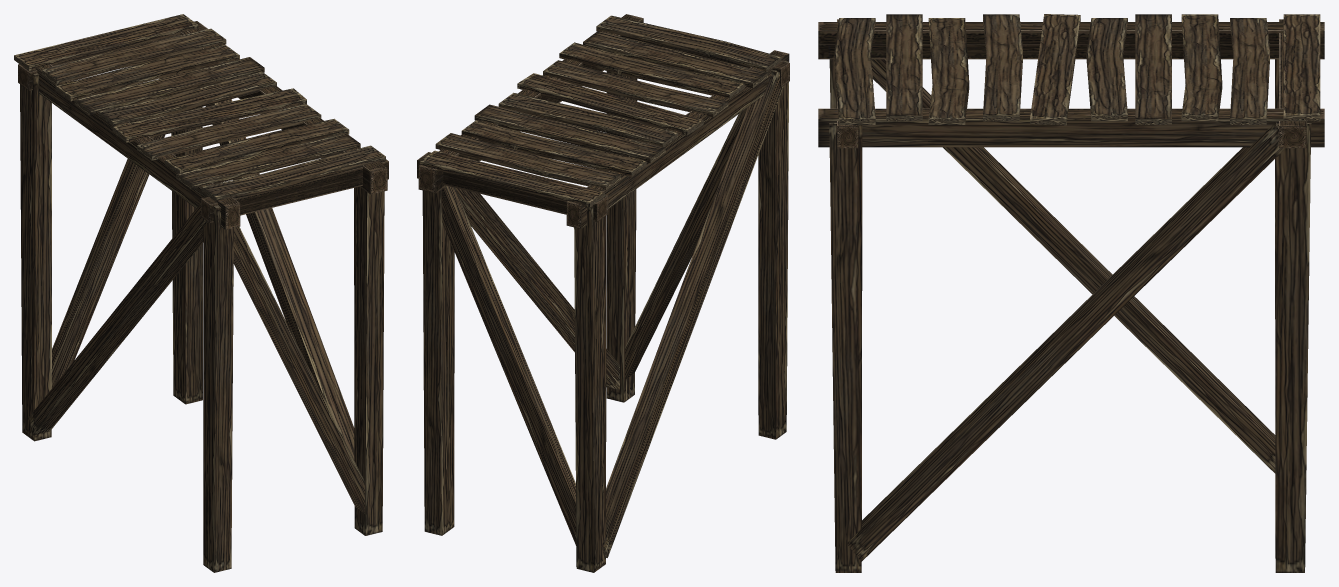
The model's file is Wood_4X8X8_02.fbx.
The picture shows the model from 3 angles, left to right: view 1: azimuth 30°, elevation 25°; view 2: azimuth 150°, elevation 25°; view 3: azimuth 270°, elevation 25°; orthographic projection. The views are drawn at different scales.
Visible parts, largest first — view 1: Wood_4X8X8_02; view 2: Wood_4X8X8_02; view 3: Wood_4X8X8_02.
Boxes of the visible parts, box(x1,y1,x2,y2) form: Wood_4X8X8_02: box(14, 14, 388, 572); Wood_4X8X8_02: box(417, 14, 789, 572); Wood_4X8X8_02: box(818, 14, 1324, 572).
Size of the model in its own units: 4 by 7.97 by 8.
